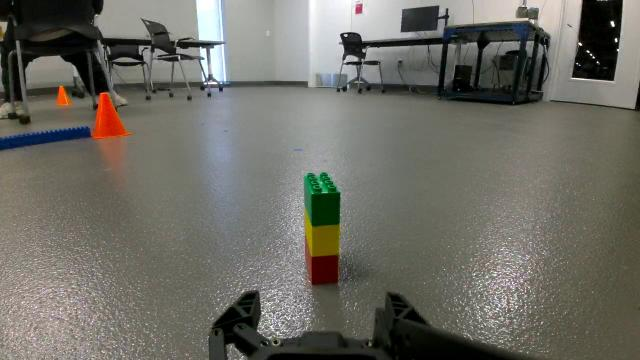lego: (270, 156, 360, 290)
